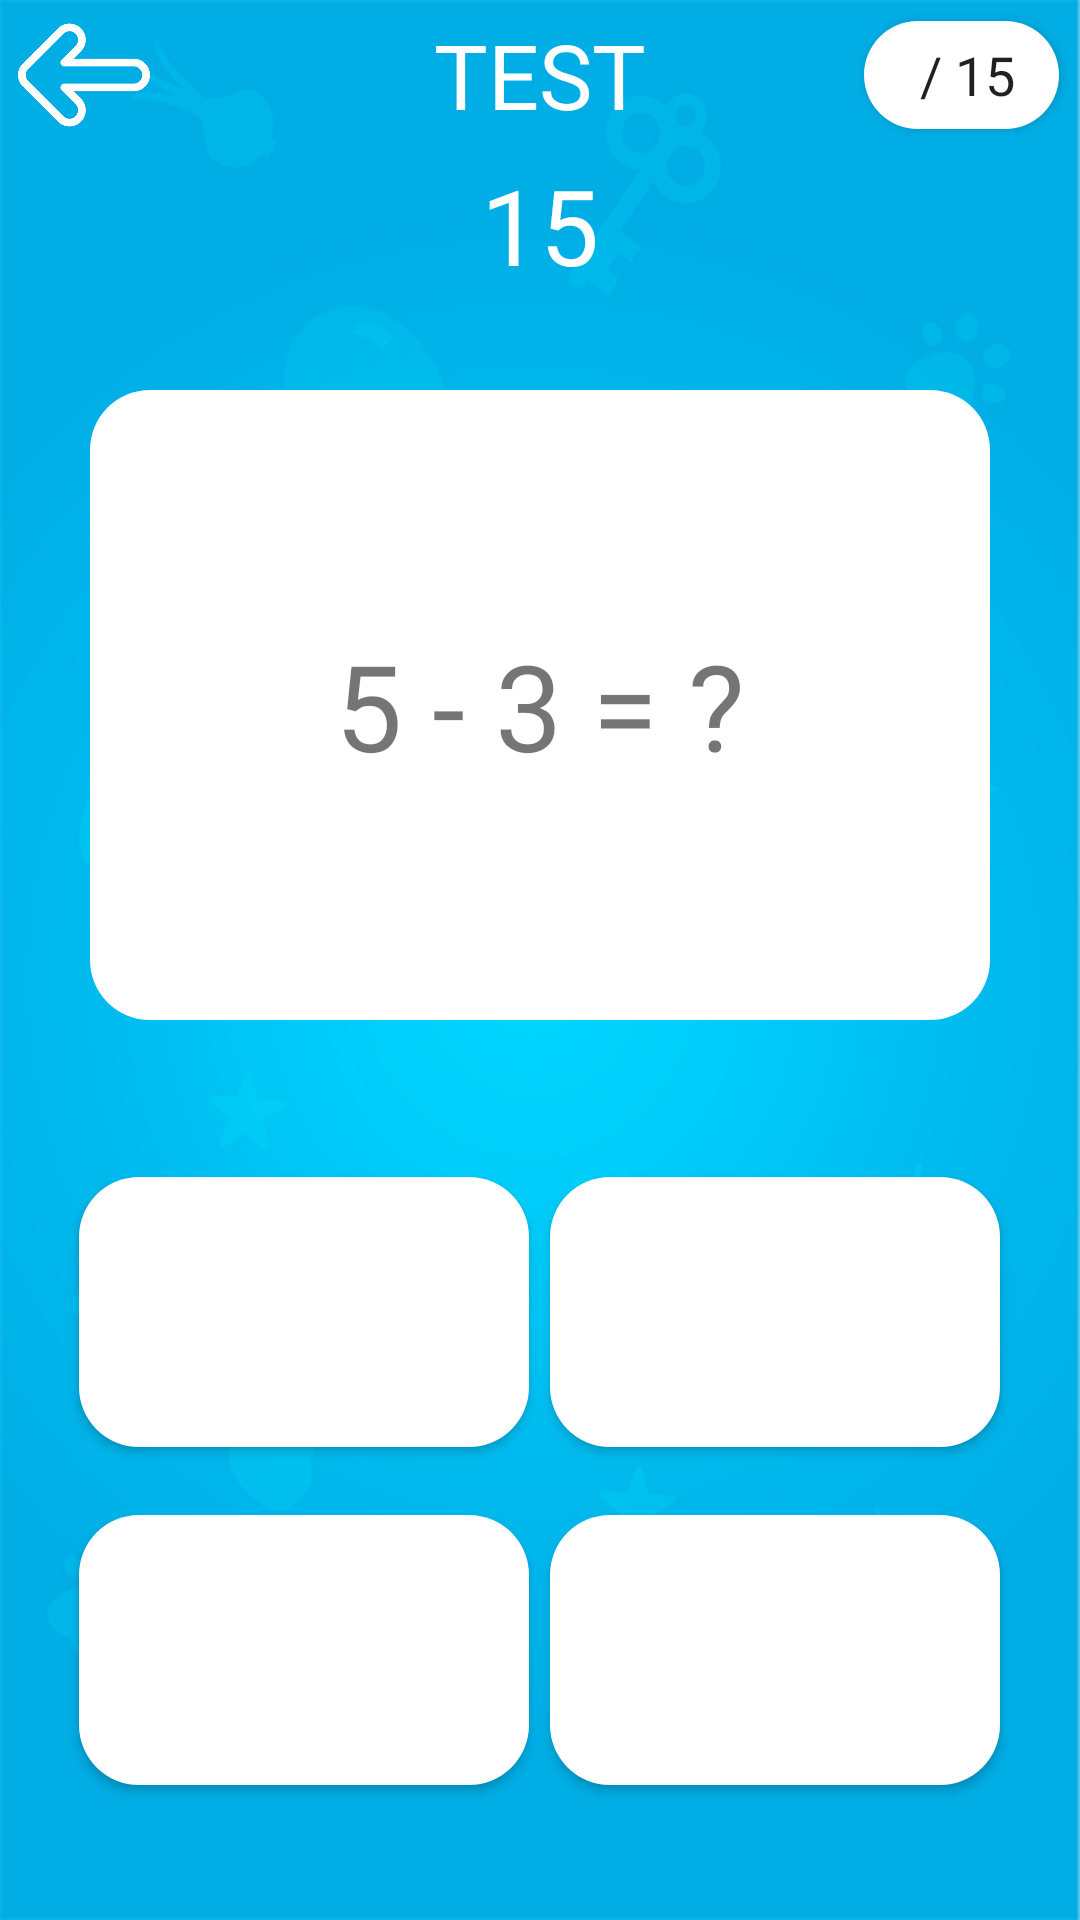

Where icons sit on this 1080×1920 app screen, as (x1, y1, x2, y2):
back: (18, 23, 150, 127)
